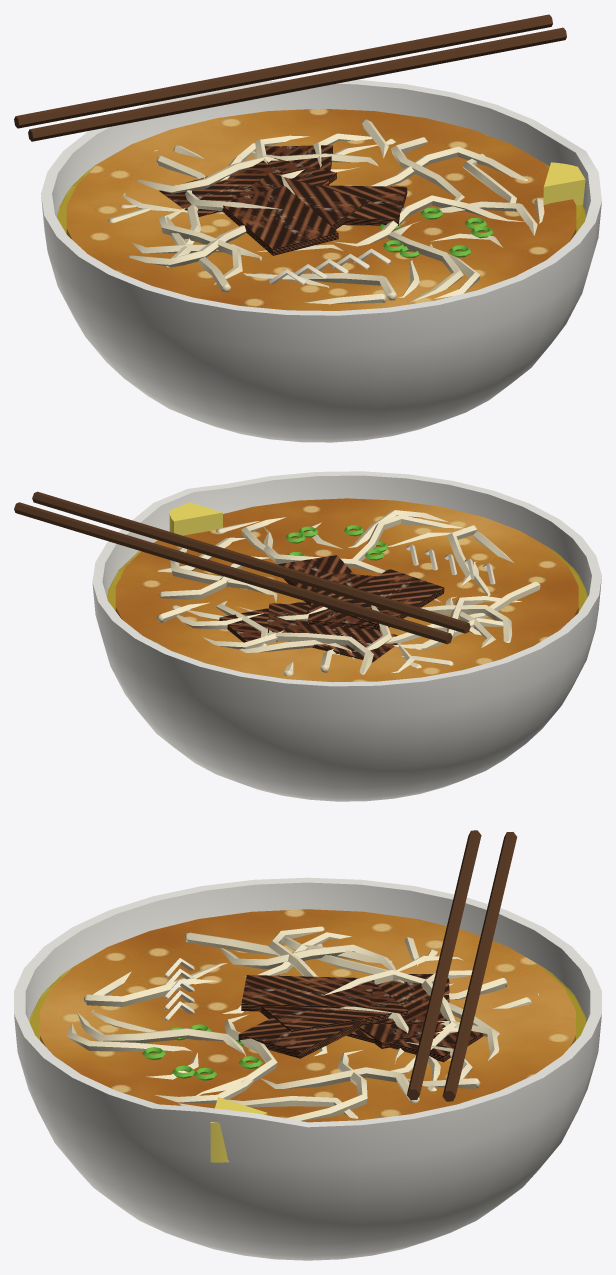
File: meal_pho_bowl.glb
3 views of the same model, one above another, from view 1: azimuth 30°, elevation 25°; view 2: azimuth 150°, elevation 25°; view 3: azimuth 270°, elevation 25° (orthographic). The views are drawn at different scales.
Parts seen in each view (by area): view 1: meal_pho_bowl; view 2: meal_pho_bowl; view 3: meal_pho_bowl.
Part boxes in pixels (left/top/right/bottom): meal_pho_bowl: left=14, top=14, right=601, bottom=442; meal_pho_bowl: left=14, top=471, right=601, bottom=801; meal_pho_bowl: left=14, top=830, right=601, bottom=1260.
Bounding box in the file's own units: 0.2554 × 0.1124 × 0.229.
Materials: 9 (2 with a texture image).
